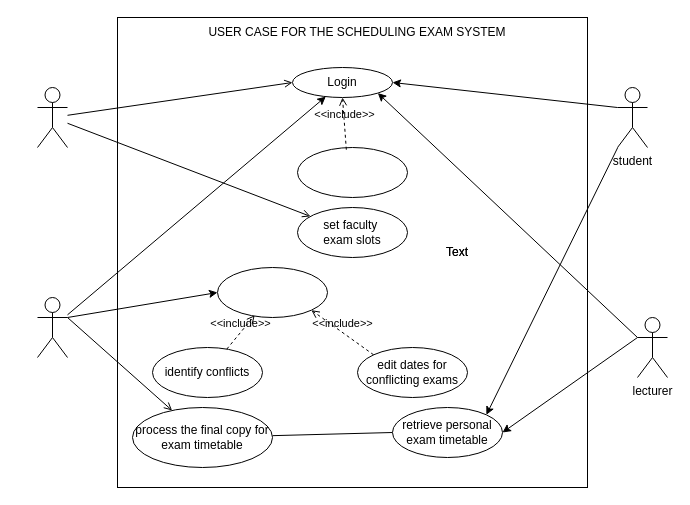
The diagram is 690 pixels wide and 505 high, and some of its shapes have lost their labels. The centre of each missing label's shape, as x and y in pixels:
Exam officer: point 52,327
faculty Admin: point 52,117
process the first copy for timetable: point 272,292
Reset password: point 352,172
